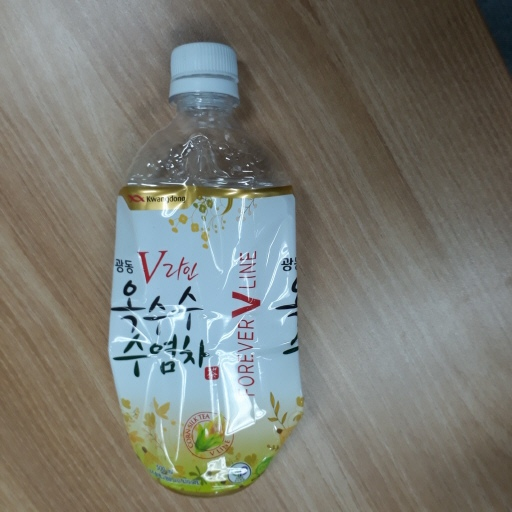Plastic_0: (108, 39, 306, 499)
